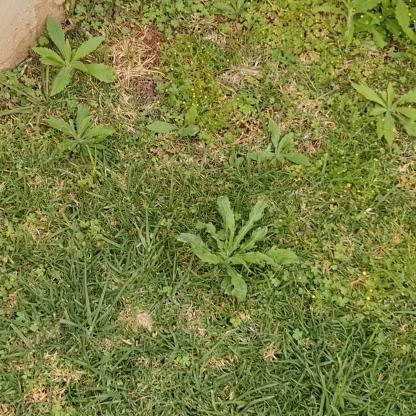Weeds: (168, 193, 301, 304), (31, 16, 121, 97), (352, 74, 415, 142), (43, 104, 117, 156), (249, 117, 311, 174), (321, 0, 386, 45), (144, 105, 198, 143), (212, 0, 253, 22)
